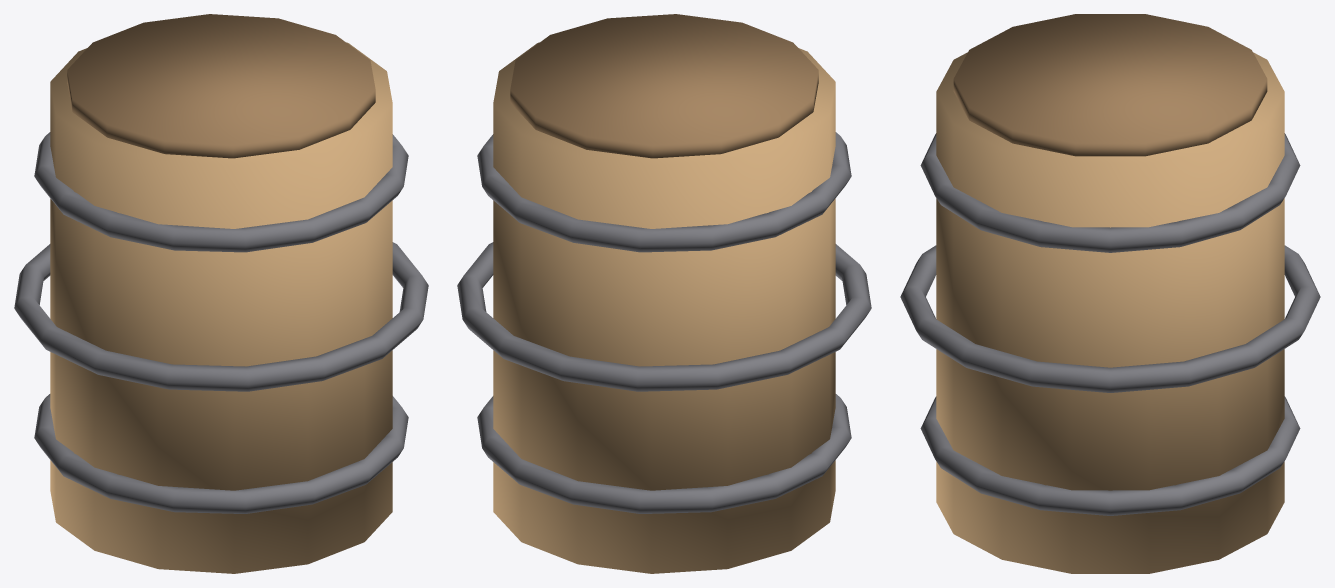
Rendered from barril.glb.
3 views of the same model, side by side, from view 1: azimuth 30°, elevation 25°; view 2: azimuth 150°, elevation 25°; view 3: azimuth 270°, elevation 25° (orthographic).
Parts seen in each view (by area): view 1: barril; view 2: barril; view 3: barril.
Part boxes in pixels (<box>): barril: <box>14,14,428,573</box>; barril: <box>457,14,871,573</box>; barril: <box>900,14,1320,573</box>.
Size of the model in its own units: 0.724 by 0.805 by 0.724.
